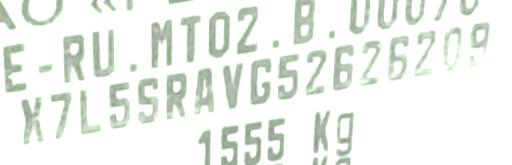letter: (357, 35, 383, 92), (18, 92, 46, 144), (135, 73, 161, 128), (386, 31, 412, 84), (77, 85, 103, 138), (47, 89, 73, 142), (330, 42, 356, 93), (192, 65, 218, 116), (248, 53, 272, 108), (438, 23, 464, 73), (412, 28, 438, 78), (301, 47, 327, 96), (220, 60, 246, 109), (276, 50, 300, 103), (106, 79, 130, 132), (466, 18, 490, 70), (164, 70, 188, 121)
